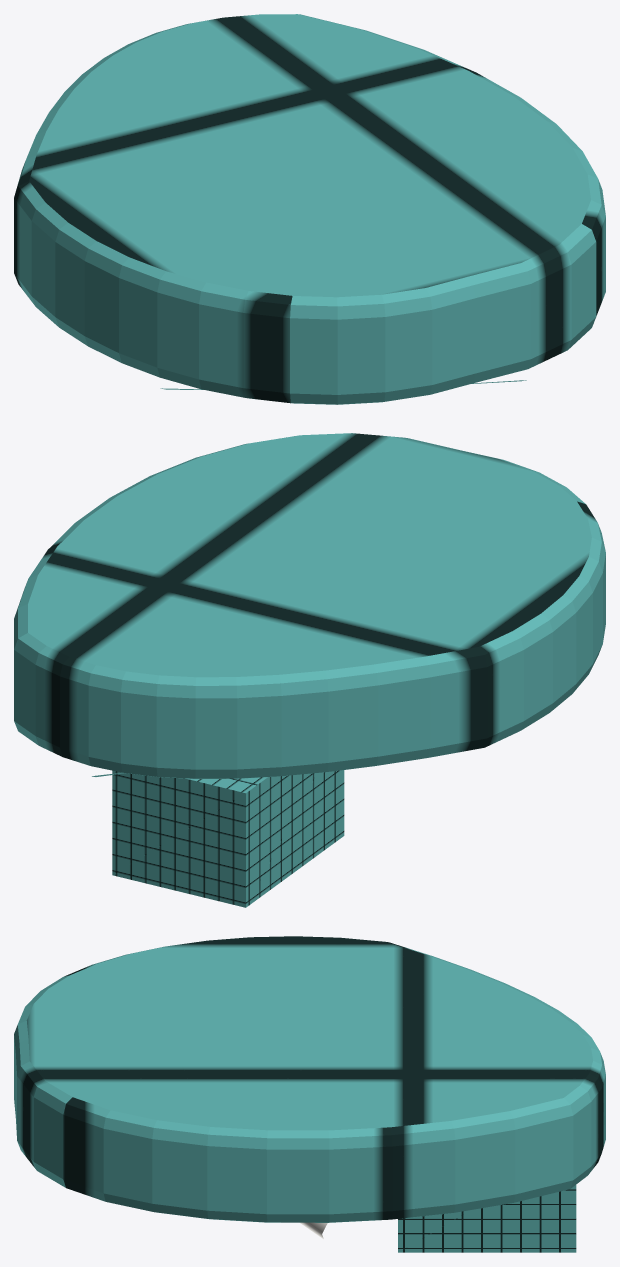
File: chancla-heel.glb
3 views of the same model, one above another, from view 1: azimuth 30°, elevation 25°; view 2: azimuth 150°, elevation 25°; view 3: azimuth 270°, elevation 25° (orthographic). The views are drawn at different scales.
Visible parts, largest first — view 1: chancla-heel; view 2: chancla-heel; view 3: chancla-heel.
Boxes of the visible parts, x1,y1,x2,y2 form: chancla-heel: (14, 14, 605, 404); chancla-heel: (14, 433, 605, 907); chancla-heel: (14, 936, 605, 1252).
Size of the model in its own units: 0.1903 by 0.0845 by 0.2323.
2 materials, 1 textured.
